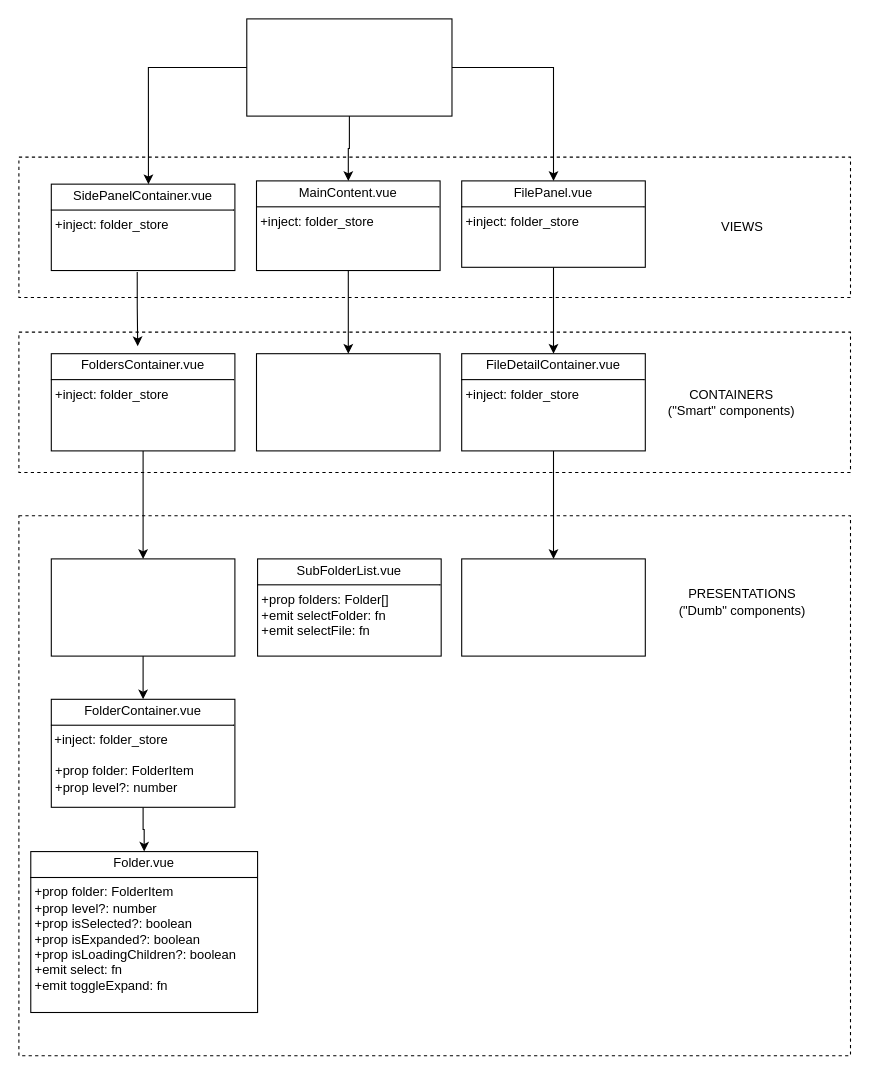
Image size: 869x1075. Some labels were removed from this diagram. Here are the shapes that lost their labels. From the top down, the centre of each, then its label:
At [349,67]: "App.vue provide(folder_store)".
At [347,402]: "SubFolderListContainer.vue +inject: folder_store".
At [142,607]: "Folders.vue +prop folders: Folder[]".
At [553,607]: "FileDetail.vue +prop file: File".
